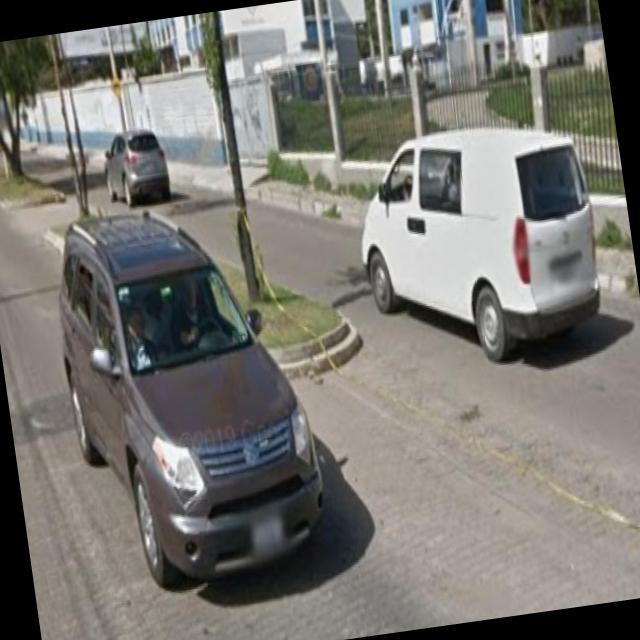car: (46, 187, 340, 598), (346, 108, 612, 376), (96, 120, 170, 204)
